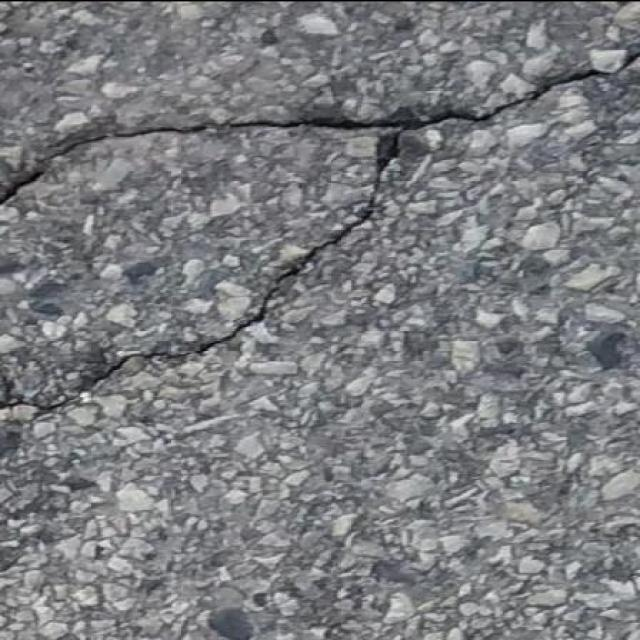Crack: (0, 54, 639, 203), (0, 120, 251, 203), (0, 354, 153, 428), (166, 291, 281, 352), (324, 220, 359, 246), (286, 254, 317, 278), (362, 178, 379, 217)
